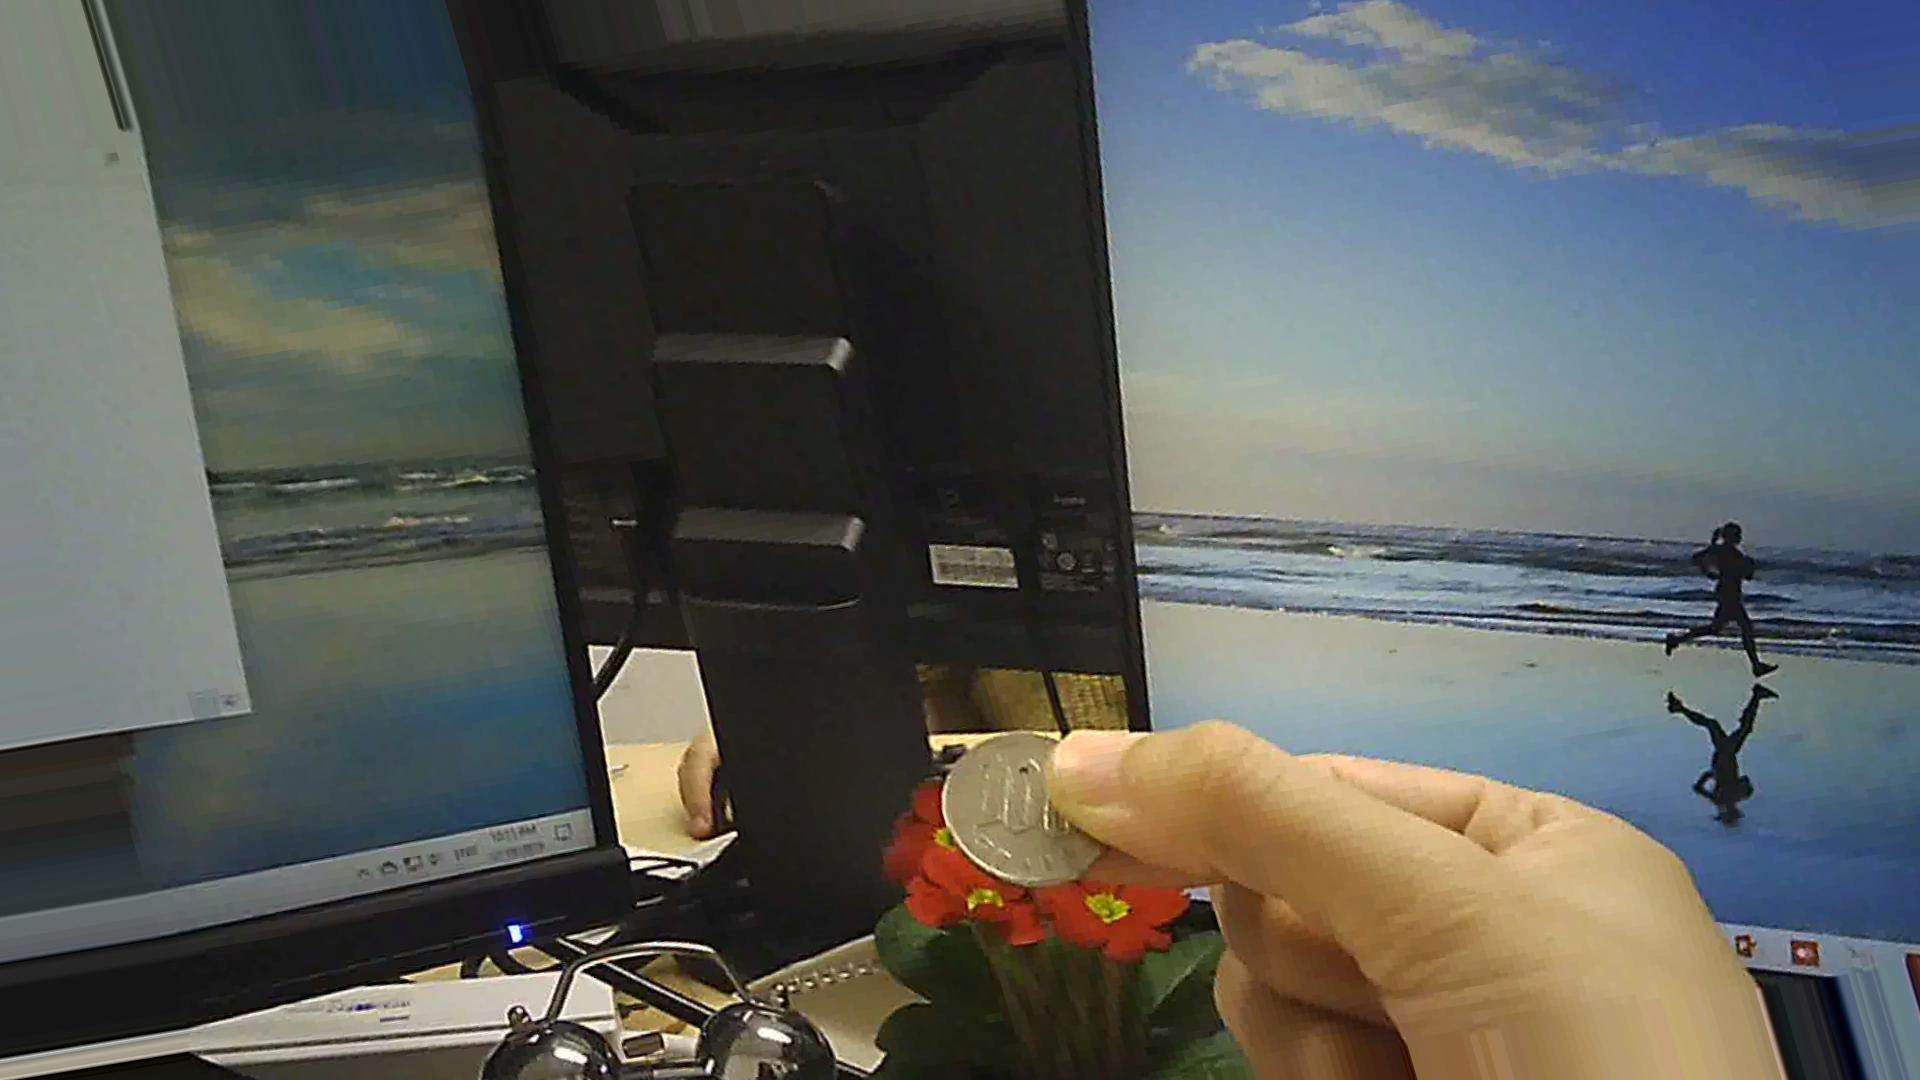100 Yen: (942, 731, 1105, 899)
